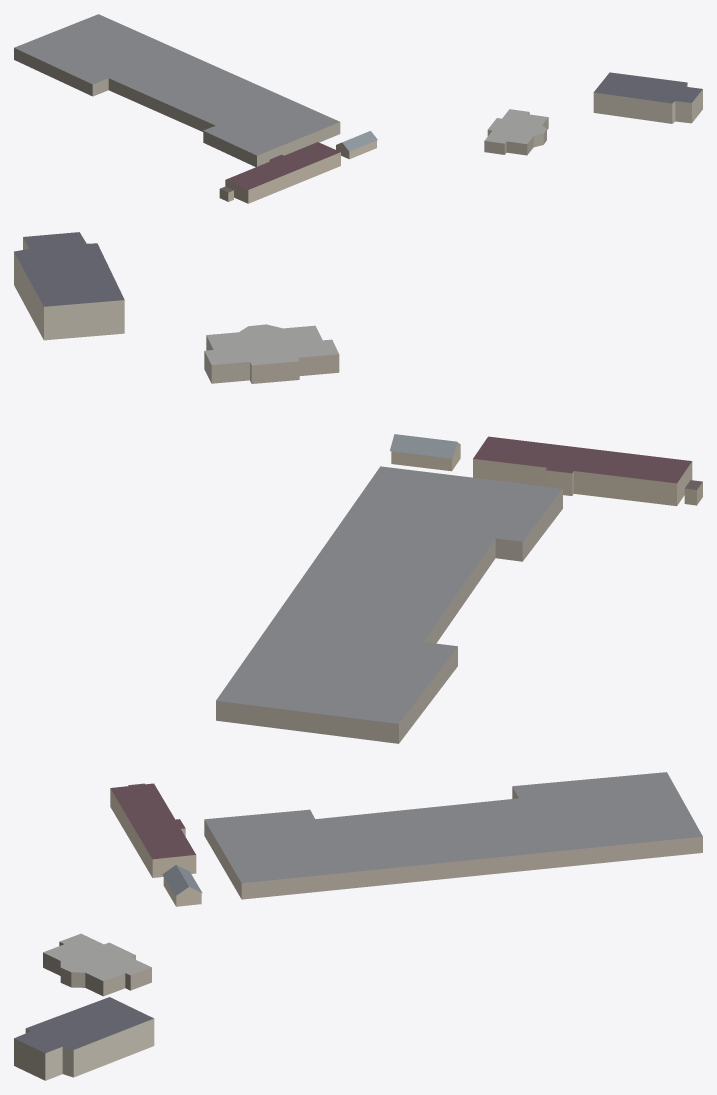
3 renders of one model, top to bottom at view 1: azimuth 30°, elevation 25°; view 2: azimuth 150°, elevation 25°; view 3: azimuth 270°, elevation 25°, orthographic. The views are drawn at different scales.
Visible parts, largest first — view 1: tuile; view 2: tuile; view 3: tuile.
Boxes of the visible parts, x1=… form: tuile: x1=14, y1=14, x2=702, y2=203; tuile: x1=14, y1=232, x2=702, y2=743; tuile: x1=14, y1=772, x2=702, y2=1080.
Size of the model in its own units: 250 by 14.36 by 241.
